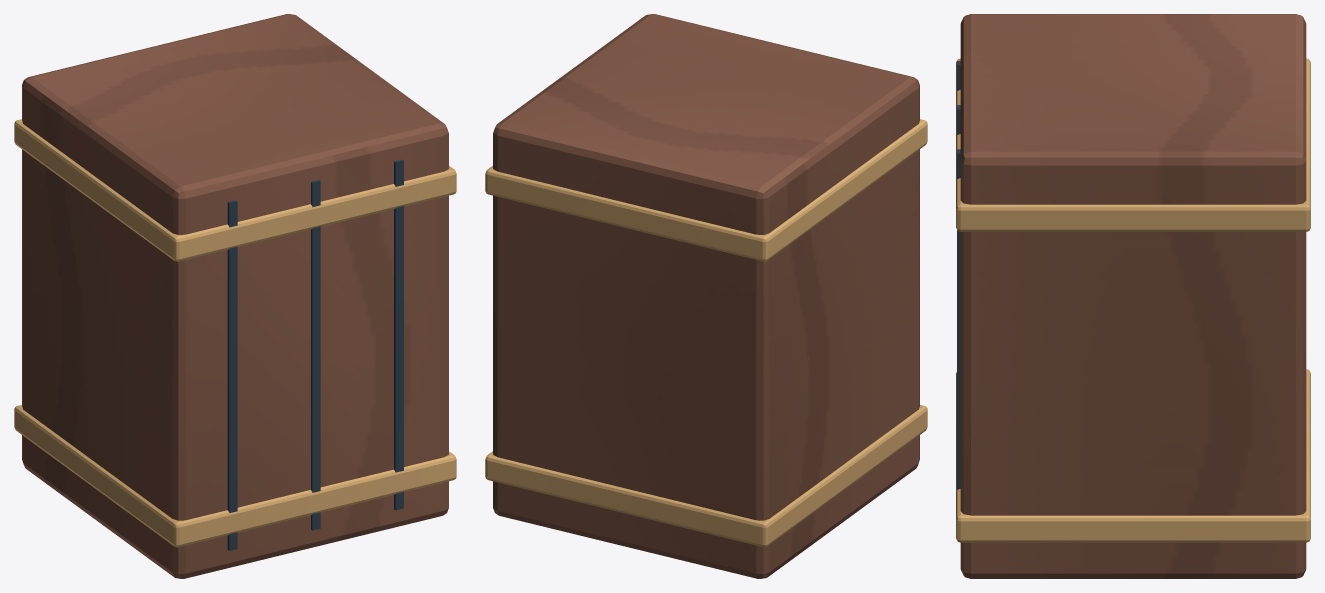
File: timber.glb
3 views of the same model, side by side, from view 1: azimuth 30°, elevation 25°; view 2: azimuth 150°, elevation 25°; view 3: azimuth 270°, elevation 25° (orthographic). The views are drawn at different scales.
Parts seen in each view (by area): view 1: timber_solid; view 2: timber_solid; view 3: timber_solid.
Boxes of the visible parts, box(x1,y1,x2,y2) form: timber_solid: box(14, 14, 456, 578); timber_solid: box(485, 14, 927, 578); timber_solid: box(956, 14, 1310, 578).
Size of the model in its own units: 1.19 by 1.58 by 1.19.
Materials: 3 (1 with a texture image).
